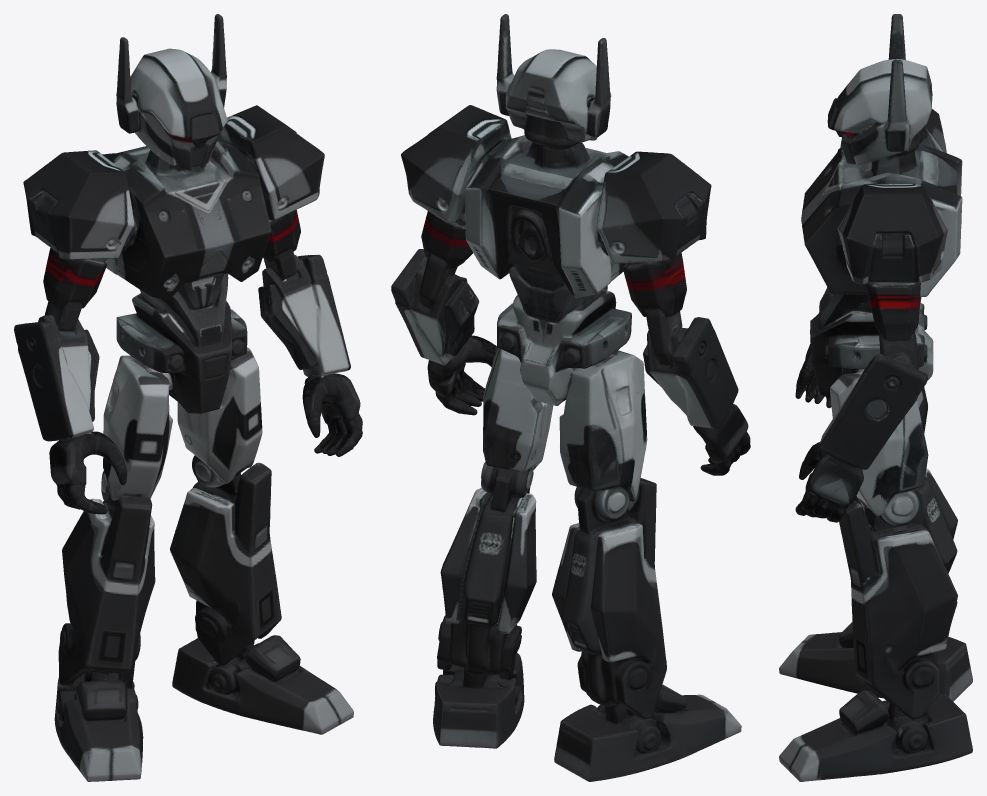
Rendered from Meshy_AI_stylized_low_poly_toy_0322165258_texture.fbx.
3 renders of one model, left to right at view 1: azimuth 30°, elevation 25°; view 2: azimuth 150°, elevation 25°; view 3: azimuth 270°, elevation 25°, orthographic. The views are drawn at different scales.
Parts seen in each view (by area): view 1: Mesh_0; view 2: Mesh_0; view 3: Mesh_0.
Boxes of the visible parts, <box> form: Mesh_0: <box>14,14,362,781</box>; Mesh_0: <box>391,14,750,781</box>; Mesh_0: <box>779,14,972,781</box>.
Size of the model in its own units: 85.06 by 190 by 49.05.
1 material, 1 textured.
